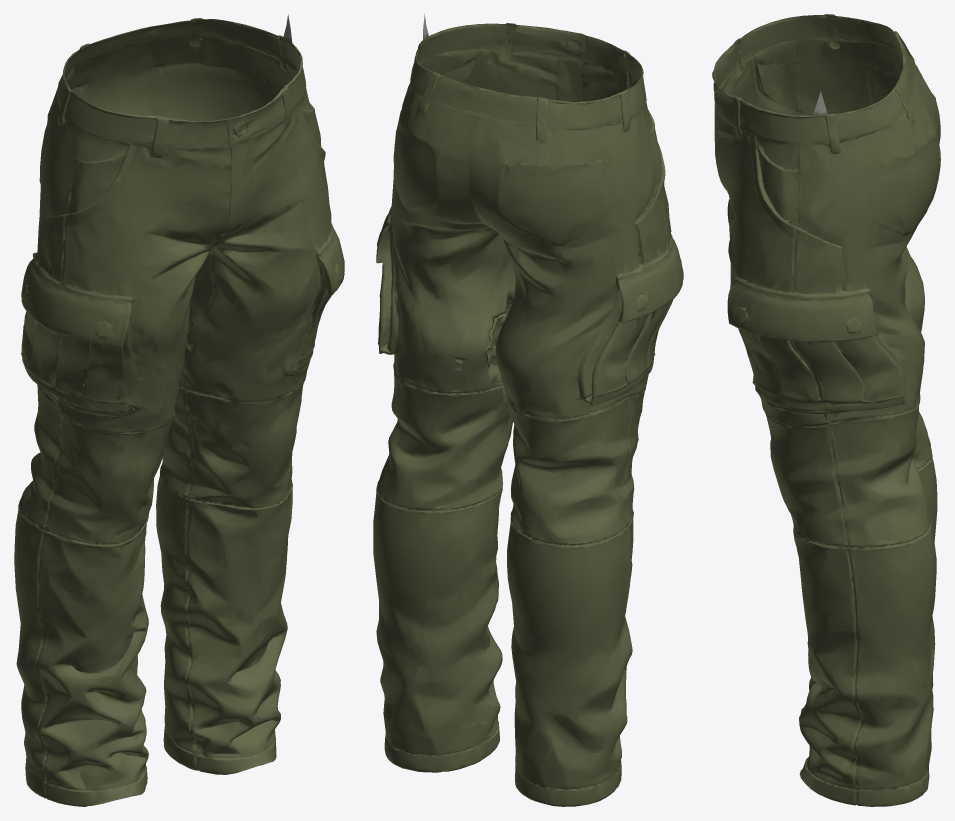
The model's file is bottom_cargo.glb.
3 renders of one model, left to right at view 1: azimuth 30°, elevation 25°; view 2: azimuth 150°, elevation 25°; view 3: azimuth 270°, elevation 25°, orthographic. The views are drawn at different scales.
Visible parts, largest first — view 1: cargo; view 2: cargo; view 3: cargo.
Part boxes in pixels (x1,y1,x2,y2): cargo: [14, 14, 344, 806]; cargo: [373, 14, 683, 806]; cargo: [712, 14, 940, 806].
Size of the model in its own units: 0.379 by 0.9258 by 0.268.
Materials: 1 (1 with a texture image).
